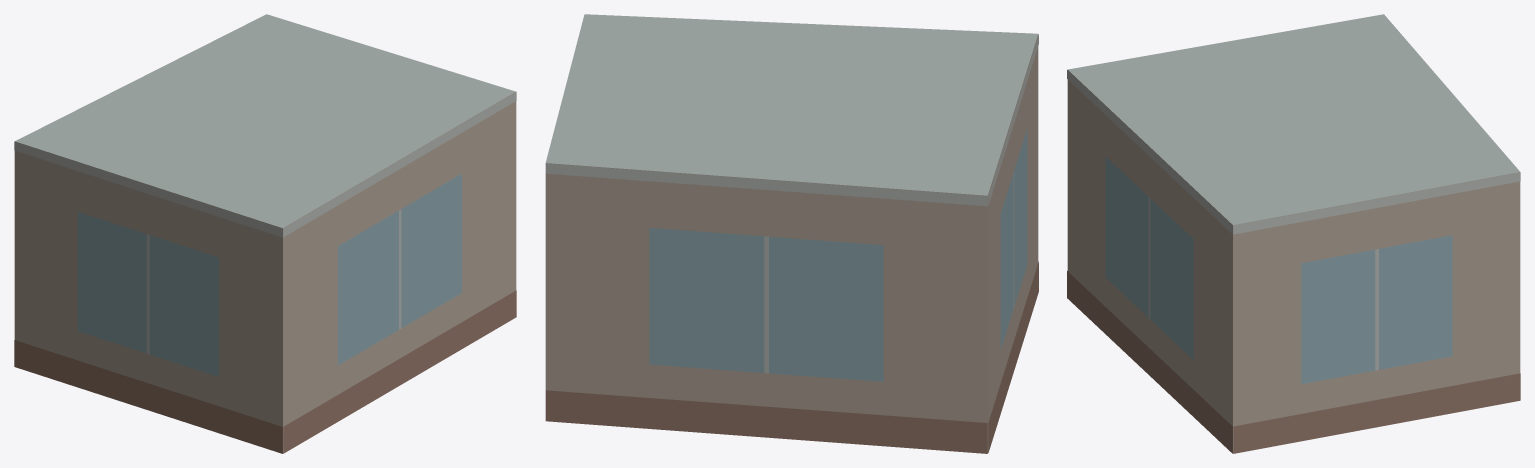
The model's file is survey-upis-32467215.glb.
3 renders of one model, left to right at view 1: azimuth 30°, elevation 25°; view 2: azimuth 150°, elevation 25°; view 3: azimuth 270°, elevation 25°, orthographic. The views are drawn at different scales.
Visible parts, largest first — view 1: survey-upis-32467215.tmp; view 2: survey-upis-32467215.tmp; view 3: survey-upis-32467215.tmp.
Boxes of the visible parts, x1,y1,x2,y2 form: survey-upis-32467215.tmp: (14, 14, 516, 453); survey-upis-32467215.tmp: (545, 14, 1038, 453); survey-upis-32467215.tmp: (1067, 14, 1520, 453).
Size of the model in its own units: 6.05 by 3.05 by 5.49.
